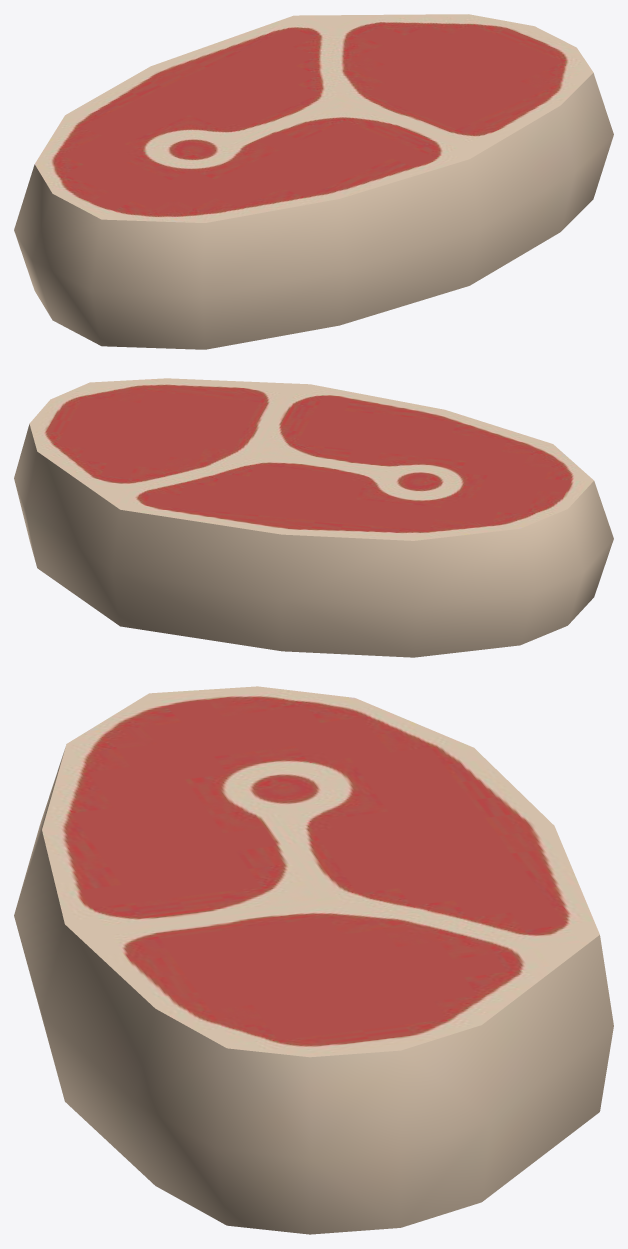
File: Meat_Model.FBX
3 views of the same model, one above another, from view 1: azimuth 30°, elevation 25°; view 2: azimuth 150°, elevation 25°; view 3: azimuth 270°, elevation 25° (orthographic). The views are drawn at different scales.
Parts seen in each view (by area): view 1: meat; view 2: meat; view 3: meat.
Part boxes in pixels (left/top/right/bottom): meat: left=14, top=14, right=613, bottom=349; meat: left=14, top=378, right=613, bottom=657; meat: left=14, top=686, right=613, bottom=1234.
Size of the model in its own units: 67.25 by 14.01 by 42.95.
Materials: 1 (1 with a texture image).
